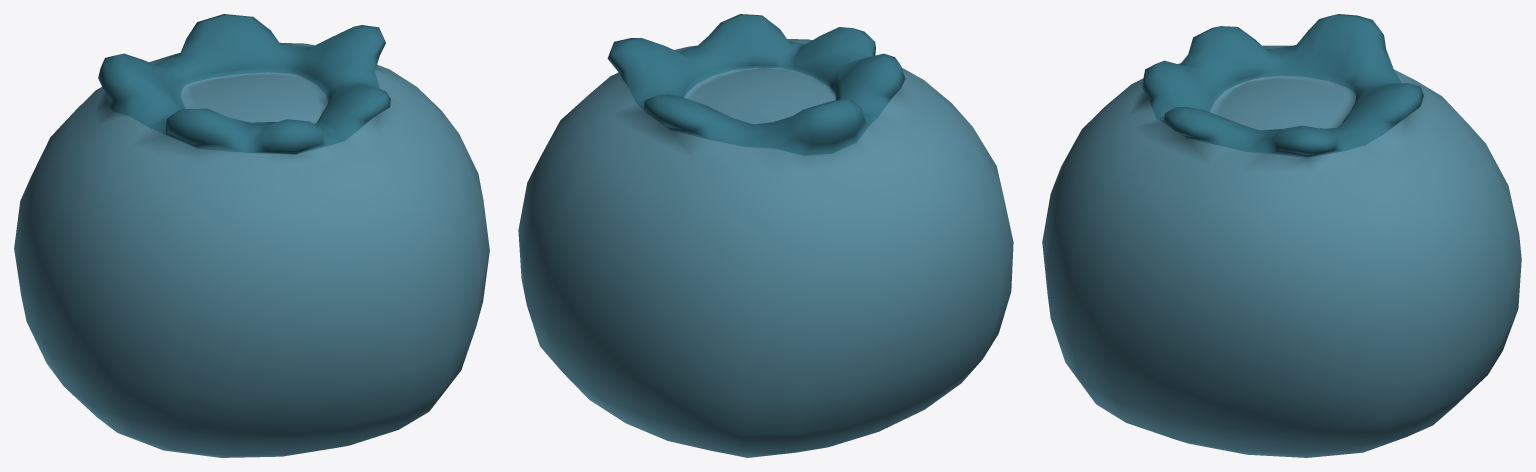
Rendered from Blueberry_02.dae.
3 views of the same model, side by side, from view 1: azimuth 30°, elevation 25°; view 2: azimuth 150°, elevation 25°; view 3: azimuth 270°, elevation 25° (orthographic).
Parts seen in each view (by area): view 1: Blueberry_02_LOD0; view 2: Blueberry_02_LOD0; view 3: Blueberry_02_LOD0.
Part boxes in pixels (bbox=[...]): Blueberry_02_LOD0: bbox=[14, 14, 489, 457]; Blueberry_02_LOD0: bbox=[518, 14, 1013, 457]; Blueberry_02_LOD0: bbox=[1042, 14, 1521, 457].
Size of what is drawn, in the model's own units: 2.22 by 2.23 by 1.84.
